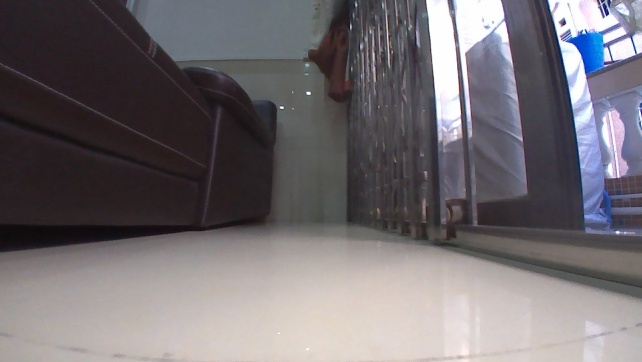sofa1: (0, 0, 278, 240)
